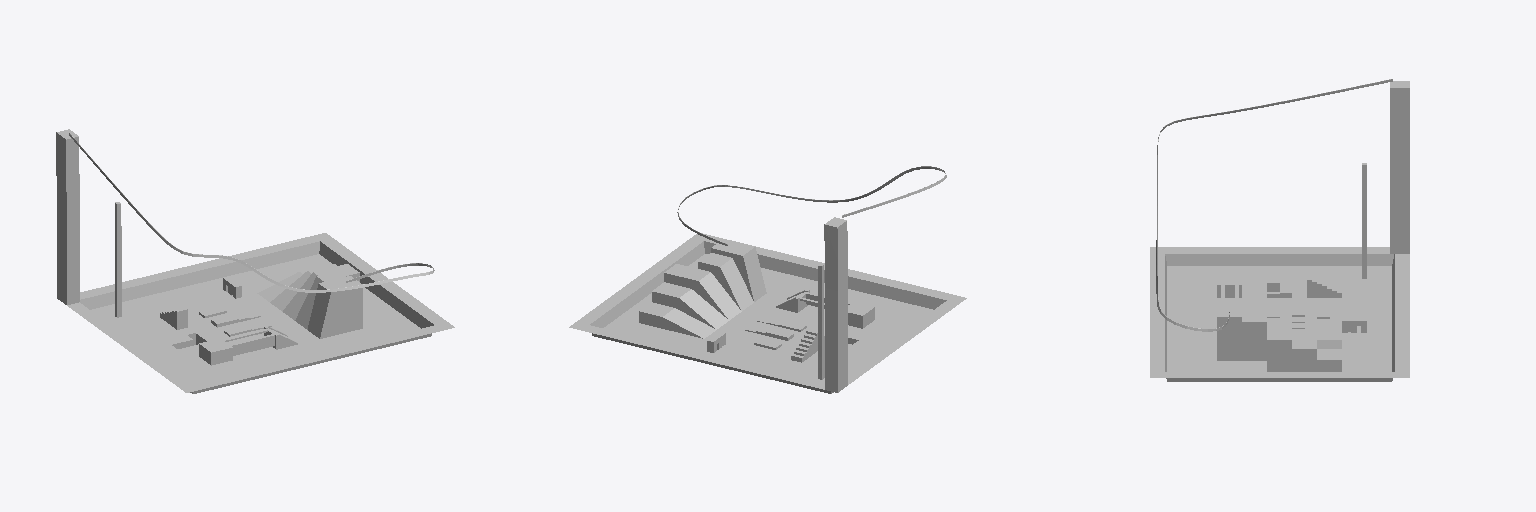
File: Test Level.obj
3 views of the same model, side by side, from view 1: azimuth 30°, elevation 25°; view 2: azimuth 150°, elevation 25°; view 3: azimuth 270°, elevation 25° (orthographic).
Visible parts, largest first — view 1: Frame_mesh; view 2: Frame_mesh; view 3: Frame_mesh.
Part boxes in pixels (x1,y1,x2,y2): Frame_mesh: (56, 129, 454, 393); Frame_mesh: (569, 166, 966, 393); Frame_mesh: (1150, 79, 1409, 381).
Size of the model in its own units: 645 by 520 by 540.